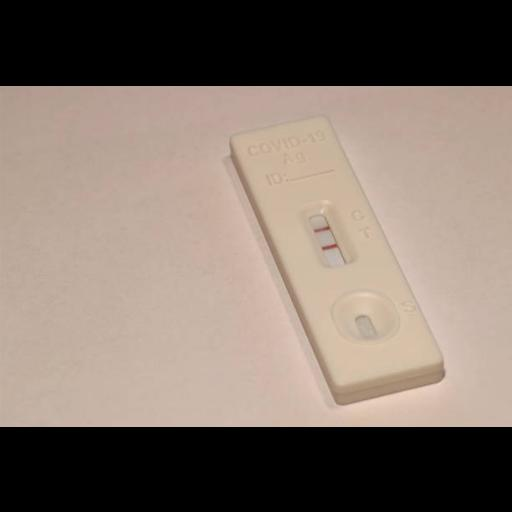Pos: (229, 113, 448, 388)
